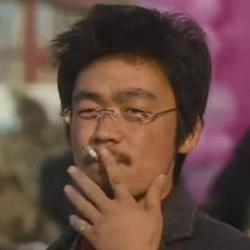smoking: (77, 141, 113, 171)
